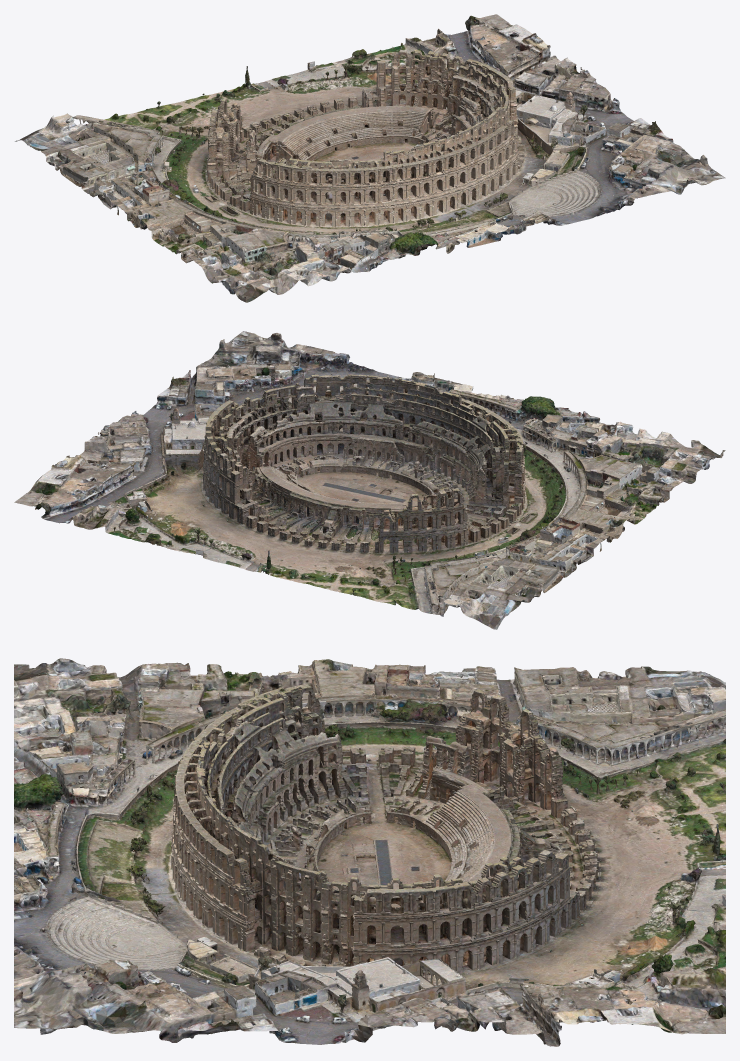
The picture shows the model from 3 angles, top to bottom: view 1: azimuth 30°, elevation 25°; view 2: azimuth 150°, elevation 25°; view 3: azimuth 270°, elevation 25°; orthographic projection. The views are drawn at different scales.
Visible parts, largest first — view 1: TUN_001_M1_ElJem_BV; view 2: TUN_001_M1_ElJem_BV; view 3: TUN_001_M1_ElJem_BV.
Boxes of the visible parts, x1=… form: TUN_001_M1_ElJem_BV: x1=14, y1=14, x2=725, y2=302; TUN_001_M1_ElJem_BV: x1=14, y1=331, x2=725, y2=629; TUN_001_M1_ElJem_BV: x1=14, y1=658, x2=725, y2=1046.
Bounding box in the file's own units: 250 × 37.96 × 205.
6 materials, 6 textured.
